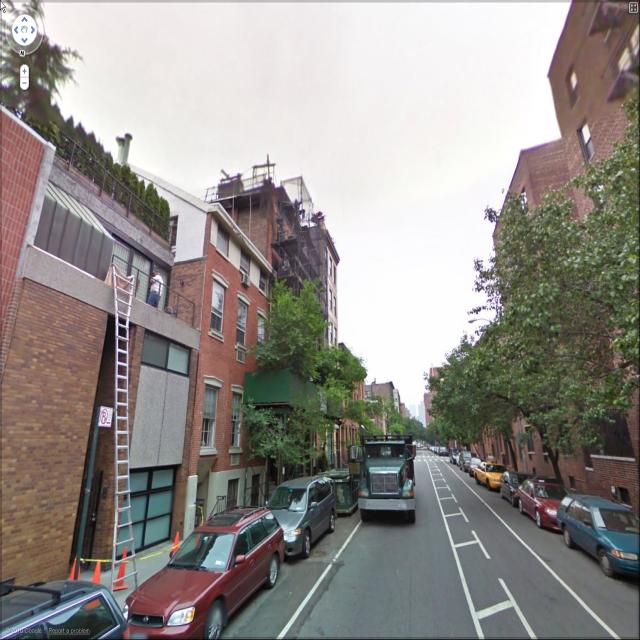b_2: (10, 117, 185, 561), (178, 179, 280, 522), (503, 144, 604, 473), (553, 3, 640, 362), (260, 204, 348, 516), (317, 351, 404, 485), (448, 327, 518, 474), (411, 358, 462, 459)
